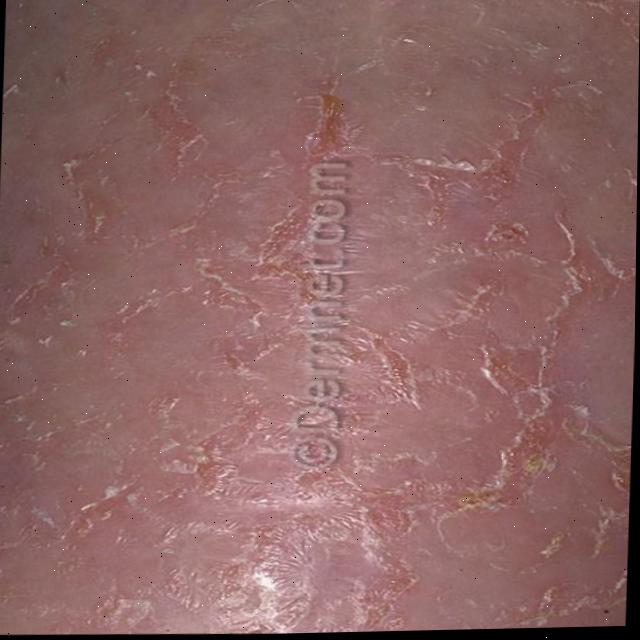Eczema: (50, 20, 580, 575)
